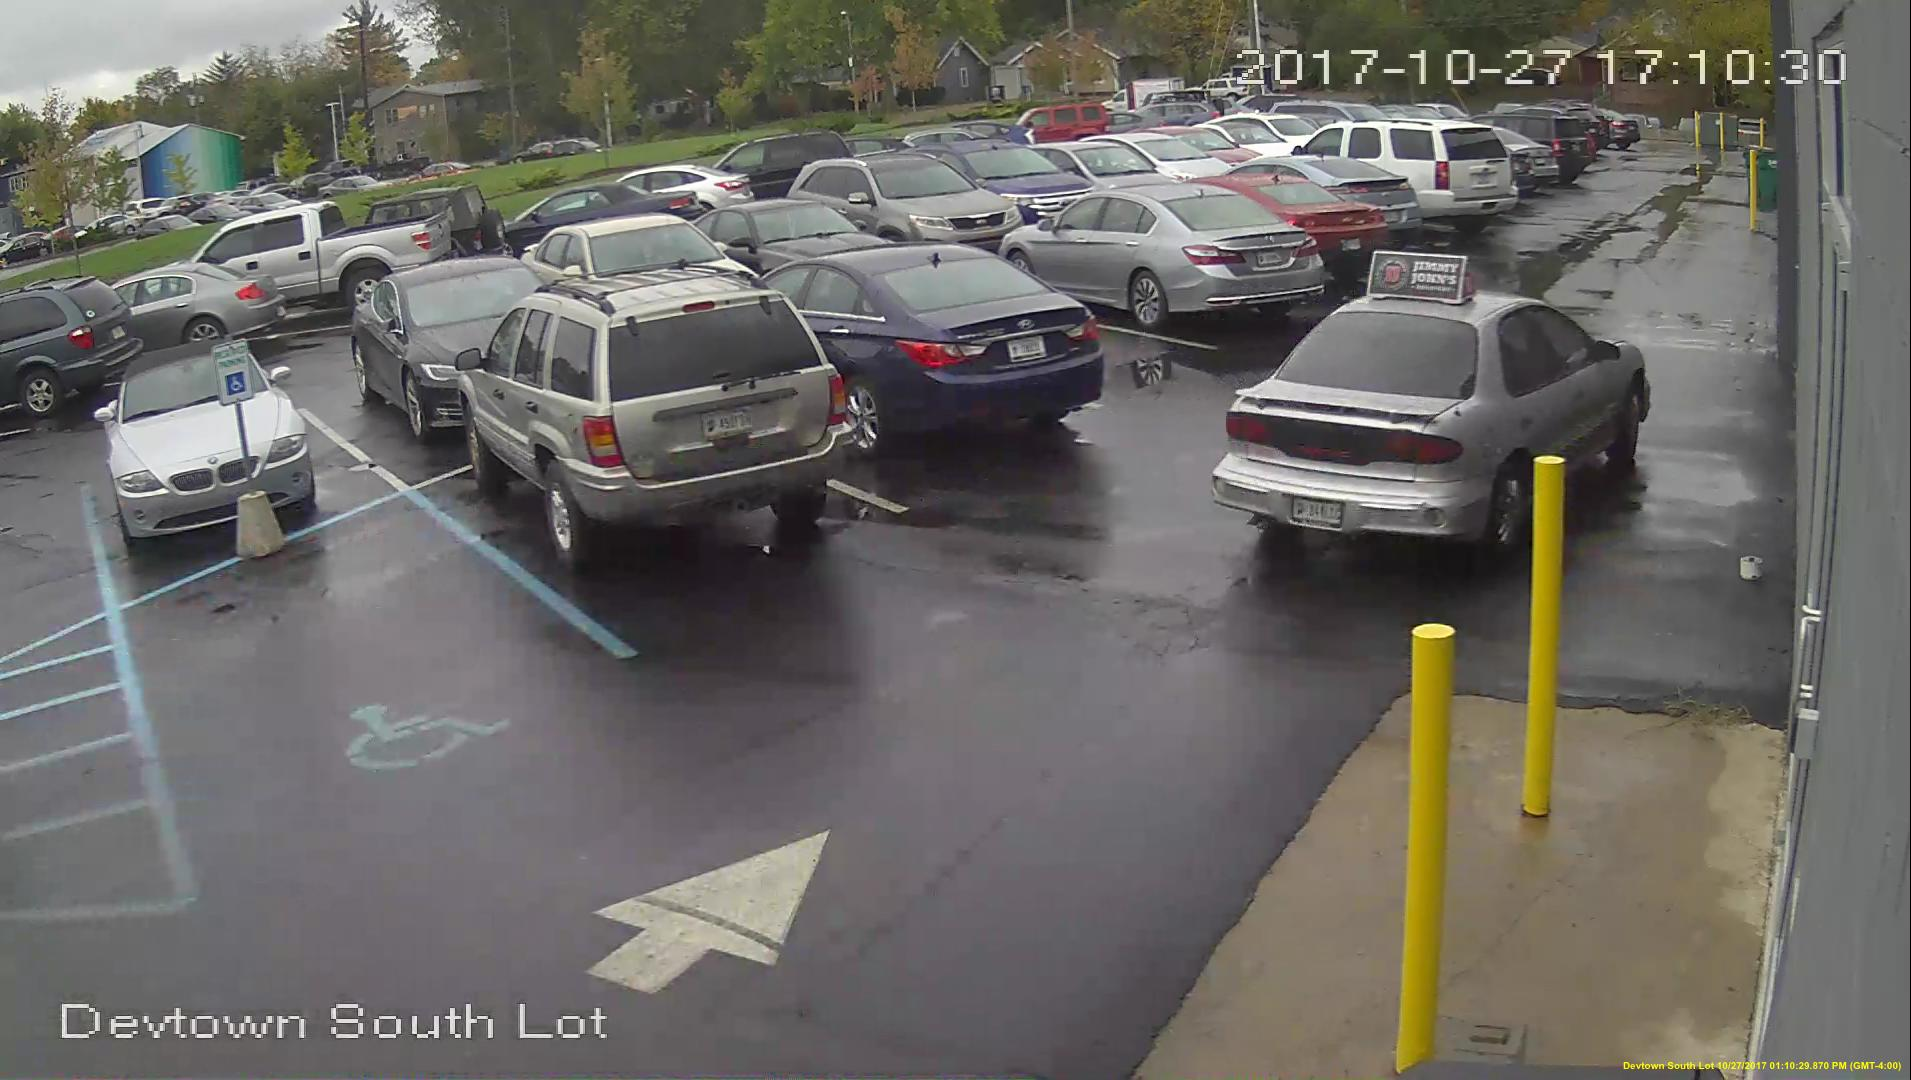jimmy_johns: (1365, 245, 1477, 306)
